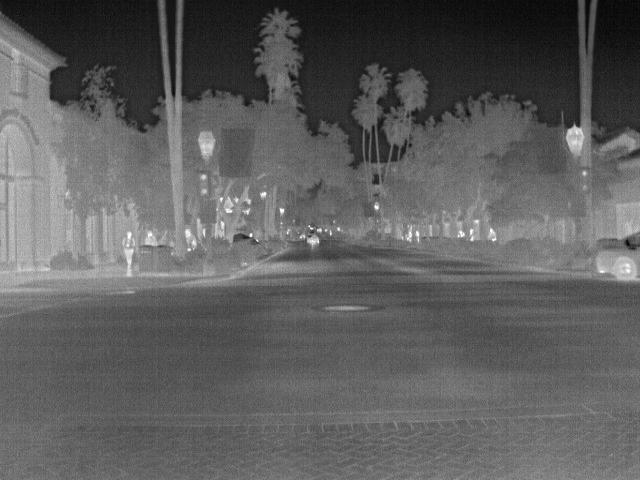car: (592, 229, 640, 283), (305, 234, 320, 248)
person: (122, 230, 138, 271), (183, 228, 198, 250), (143, 230, 160, 248), (484, 226, 498, 242)
